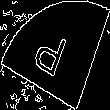P_SW: (34, 25, 76, 85)
